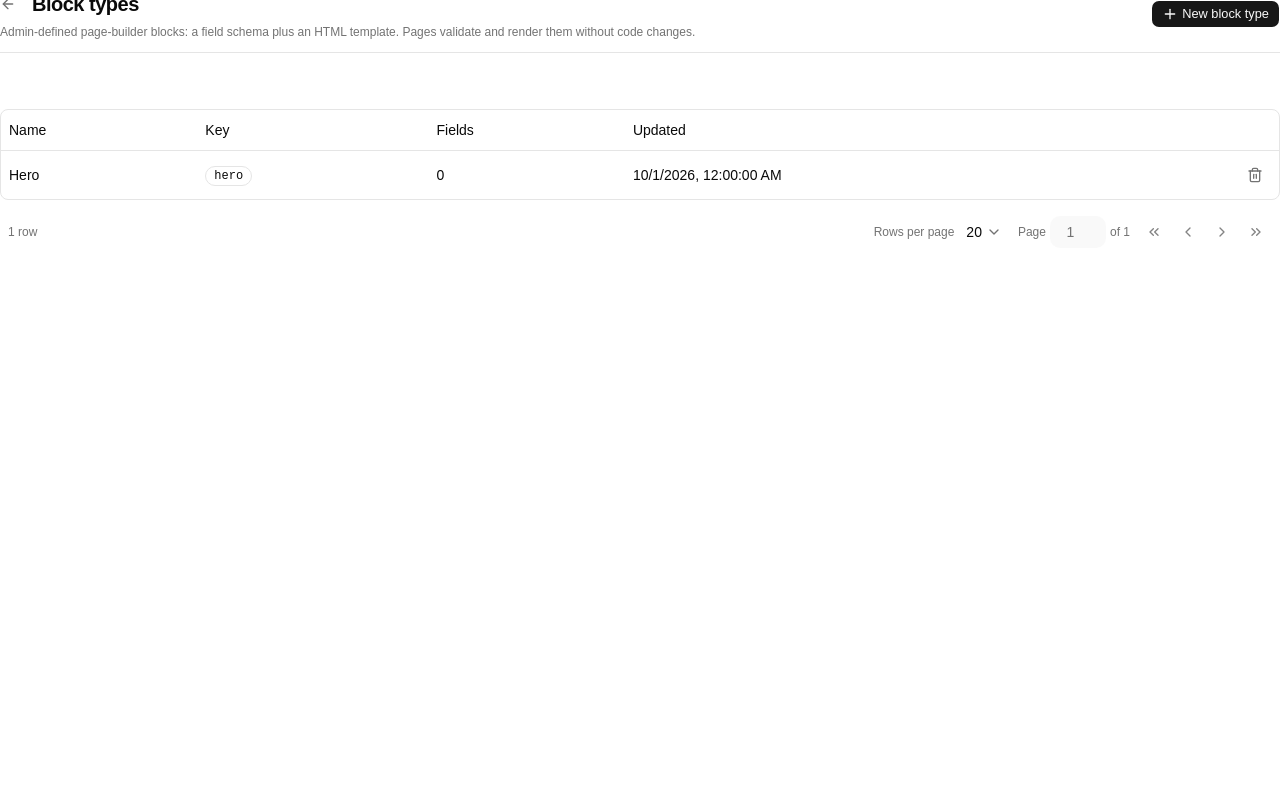
Scenario: CMS library deletes › closes a block type delete at once and toasts its failure
Click the button named "Delete Hero". click: {"x": 1255, "y": 174}
box: 1239,158 -> 1271,190
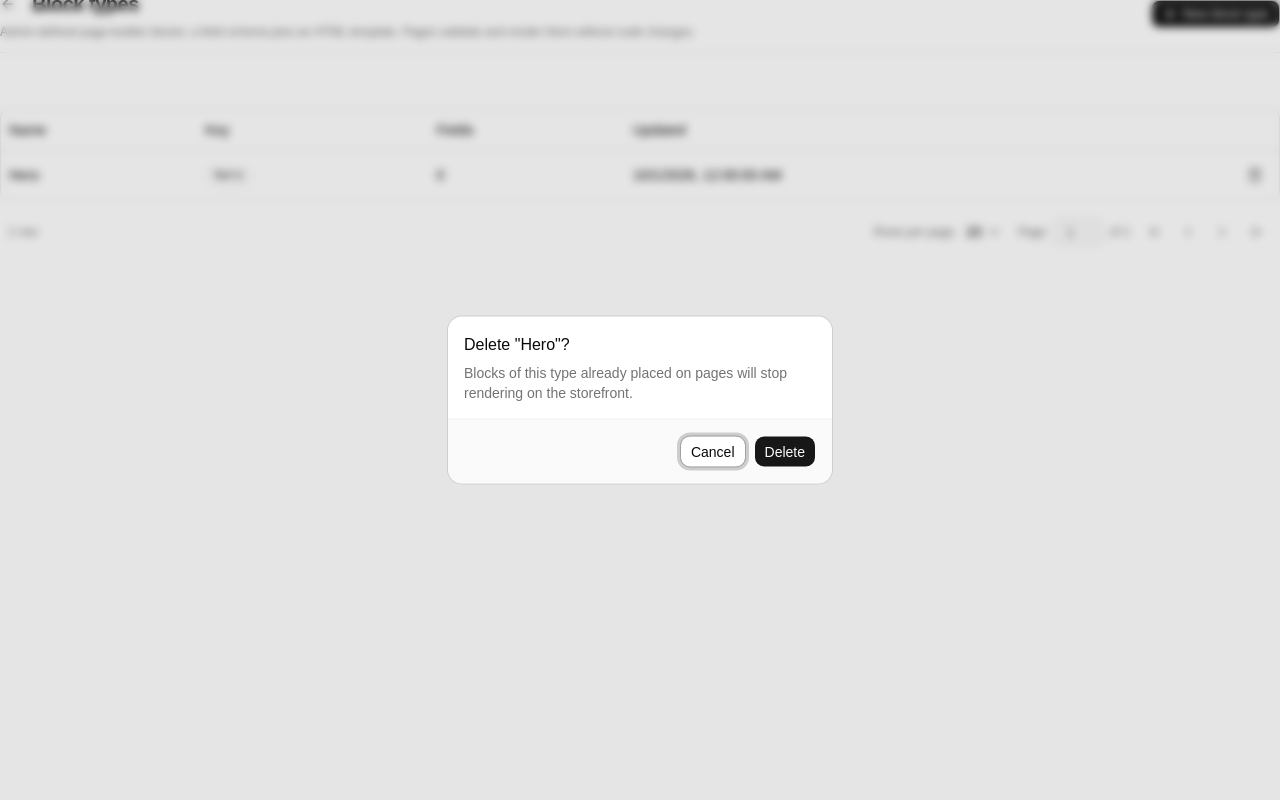
Click the button "Delete". click: {"x": 785, "y": 452}
box: 754,436 -> 816,468
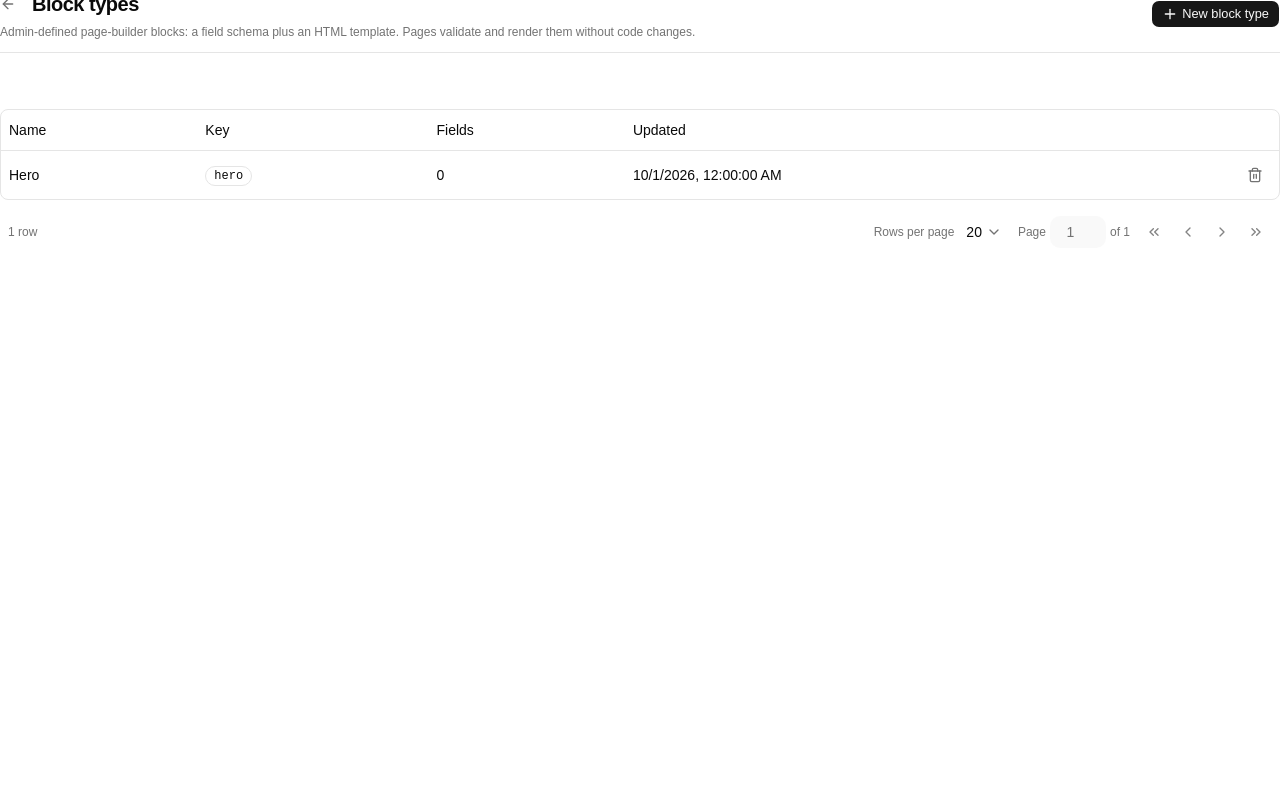
Check: the dialog is gone
